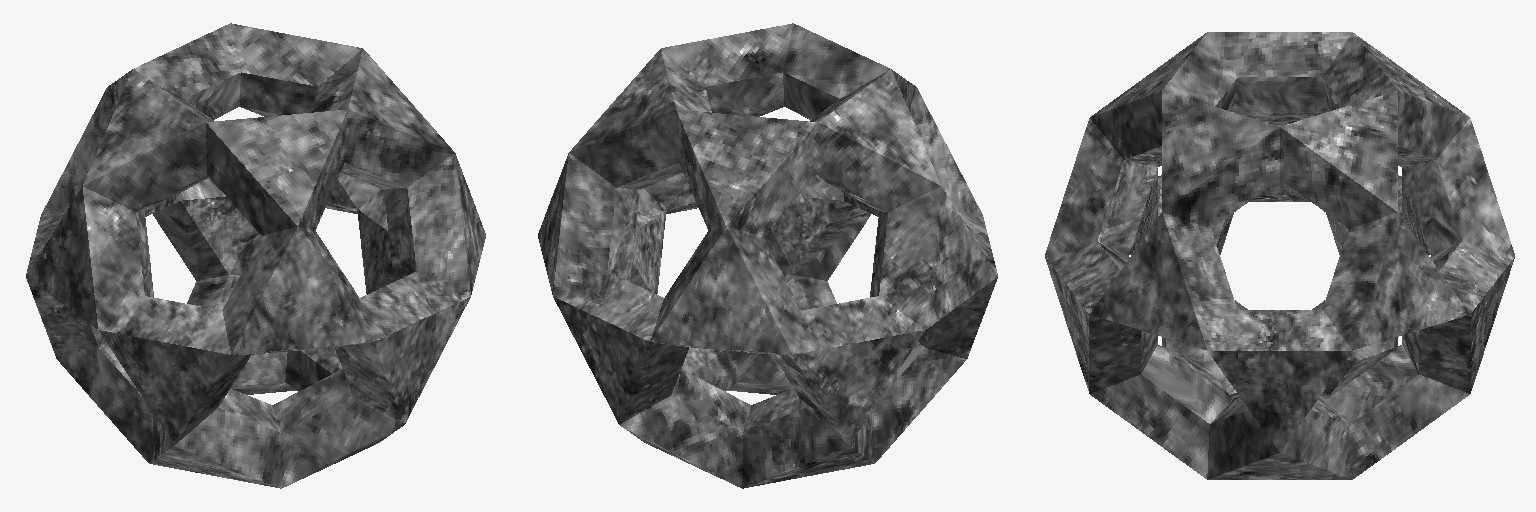
The picture shows the model from 3 angles: view 1: azimuth 30°, elevation 25°; view 2: azimuth 150°, elevation 25°; view 3: azimuth 270°, elevation 25°; orthographic projection.
Size of the model in its own units: 3.08 by 2.75 by 3.24.
1 materials, 1 textured.